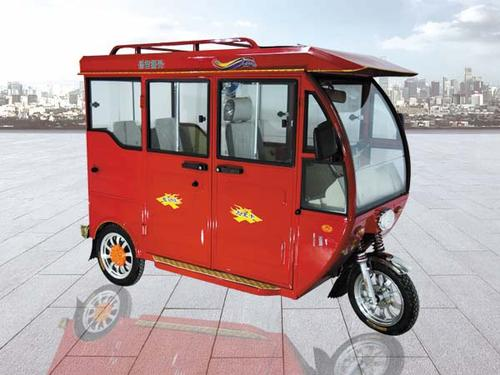tricycle: (57, 20, 444, 344)
